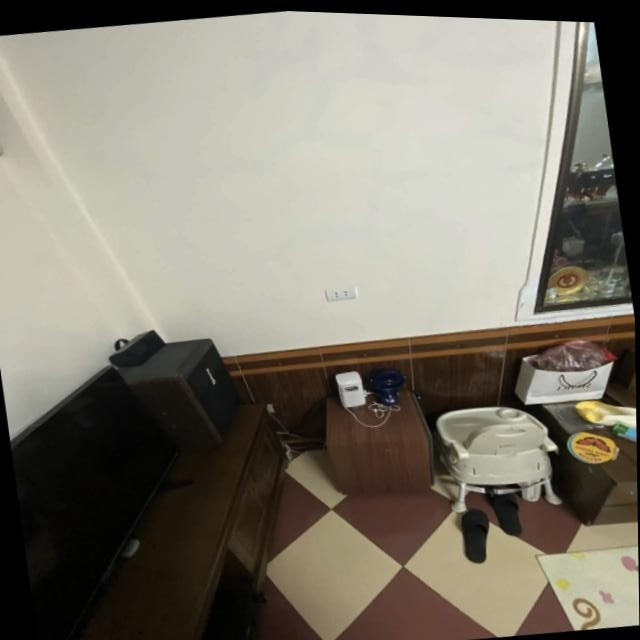outlet: (324, 285, 357, 304)
